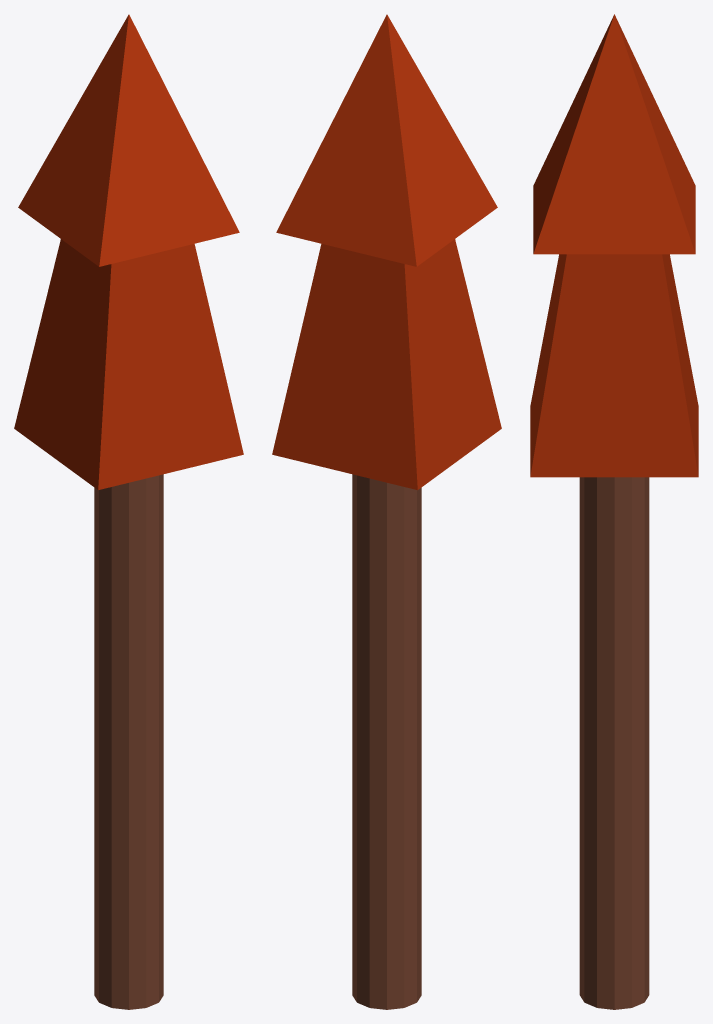
The model's file is Tree_16_summer_red_vc.fbx.
The picture shows the model from 3 angles, left to right: view 1: azimuth 30°, elevation 25°; view 2: azimuth 150°, elevation 25°; view 3: azimuth 270°, elevation 25°; orthographic projection.
Visible parts, largest first — view 1: Tree_16_summer_red_vc; view 2: Tree_16_summer_red_vc; view 3: Tree_16_summer_red_vc.
Boxes of the visible parts, box(x1,y1,x2,y2) form: Tree_16_summer_red_vc: box(14, 14, 243, 1009); Tree_16_summer_red_vc: box(272, 14, 501, 1009); Tree_16_summer_red_vc: box(530, 14, 698, 1009).
Size of the model in its own units: 53.67 by 345 by 53.67.
